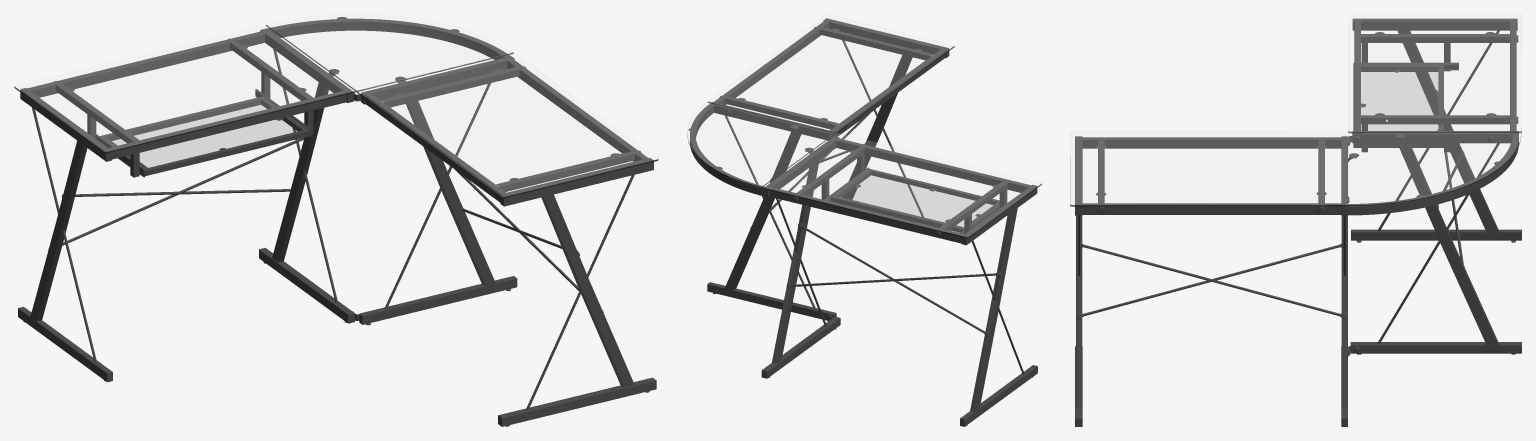
Rendered from B075X41RLD.glb.
The picture shows the model from 3 angles, left to right: view 1: azimuth 30°, elevation 25°; view 2: azimuth 150°, elevation 25°; view 3: azimuth 270°, elevation 25°; orthographic projection. The views are drawn at different scales.
Visible parts, largest first — view 1: B075X41RLD; view 2: B075X41RLD; view 3: B075X41RLD.
Boxes of the visible parts, left/top/right/bottom form: B075X41RLD: left=14, top=14, right=658, bottom=426; B075X41RLD: left=687, top=14, right=1041, bottom=426; B075X41RLD: left=1070, top=14, right=1521, bottom=426.
Bounding box in the file's own units: 1.35 × 0.7366 × 1.35.
1 material, 1 textured.
